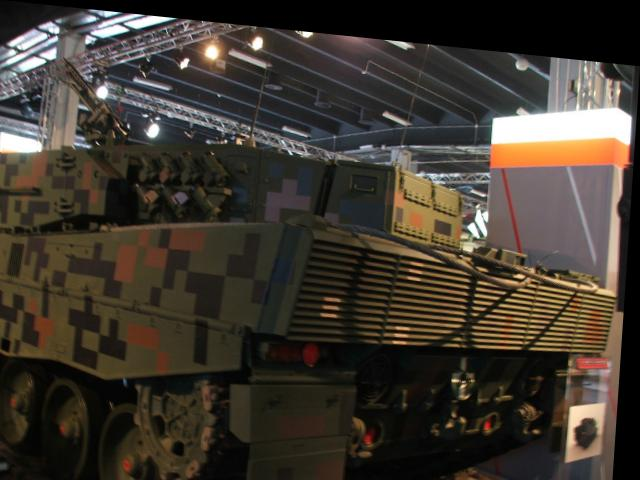tank: (0, 127, 580, 480)
